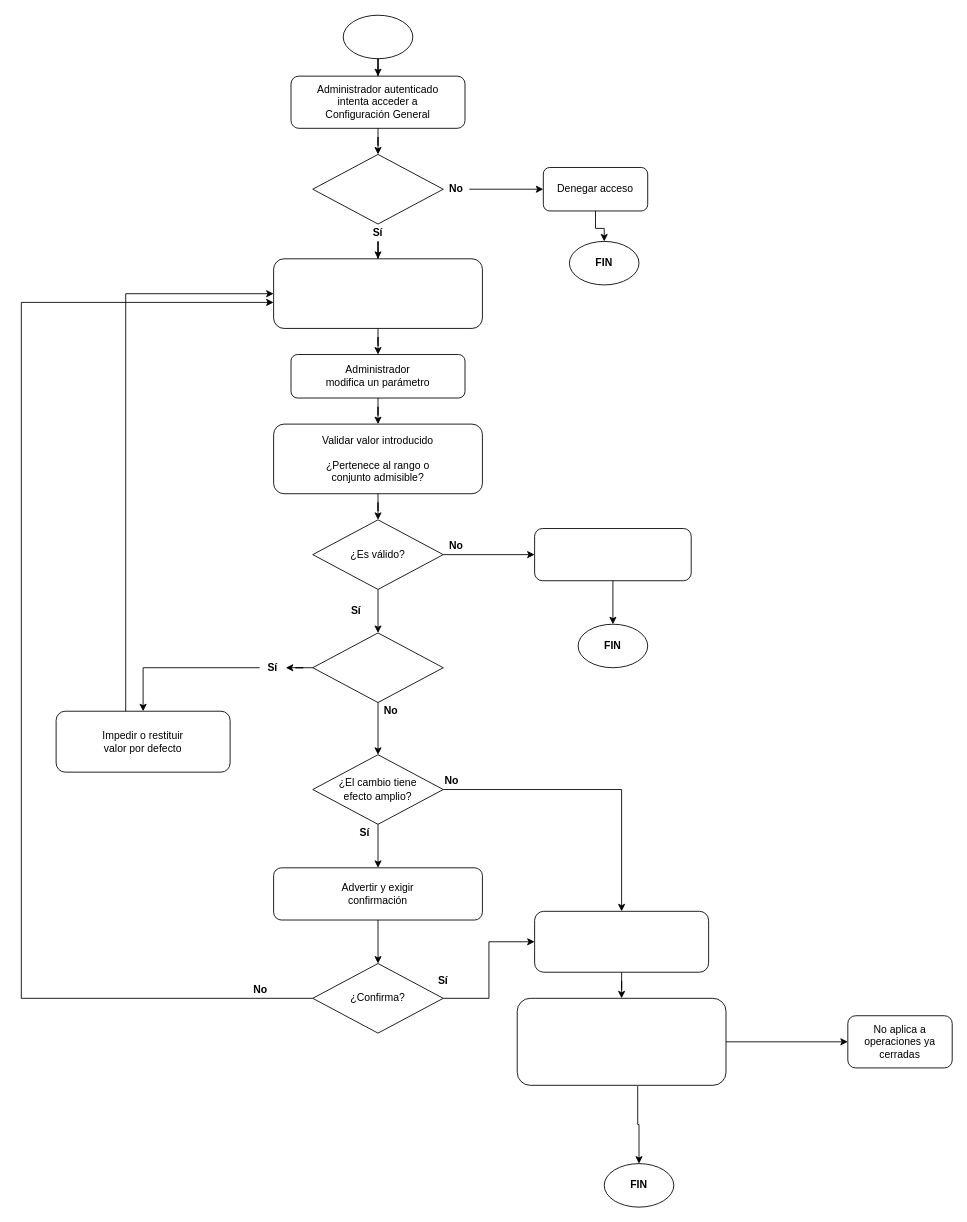
Image size: 967x1222. Some labels were removed from this diagram. Each missing label, with the centre of its shape:
"Guardar cambio Aplicar de forma inmediata" belongs at [621,941].
"INICIO" belongs at [377,36].
"Mostrar parámetros agrupados por área" belongs at [377,293].
"Rechazar cambio Indicar rango válido" belongs at [612,554].
"Registrar cambio: - Parámetro - Valor anterior - Valor nuevo - Autor - Momento" belongs at [621,1041].
"¿El valor está vacío?" belongs at [377,667].
"¿Es administrador?" belongs at [377,189].
